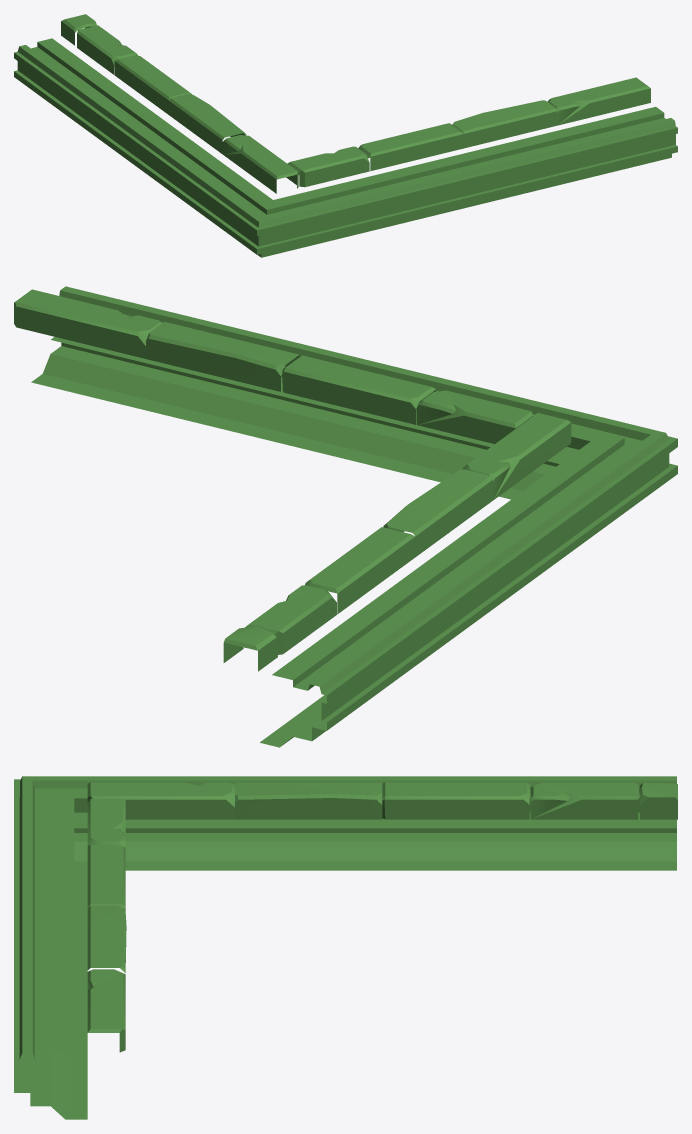
Rendered from parapet top corner lod1.FBX.
3 renders of one model, top to bottom at view 1: azimuth 30°, elevation 25°; view 2: azimuth 150°, elevation 25°; view 3: azimuth 270°, elevation 25°, orthographic. The views are drawn at different scales.
Visible parts, largest first — view 1: Object356; view 2: Object356; view 3: Object356.
Boxes of the visible parts, left/top/right/bottom form: Object356: left=14, top=14, right=677, bottom=257; Object356: left=14, top=286, right=677, bottom=747; Object356: left=14, top=776, right=677, bottom=1119.
Bounding box in the file's own units: 4.5 × 0.6875 × 4.51.
